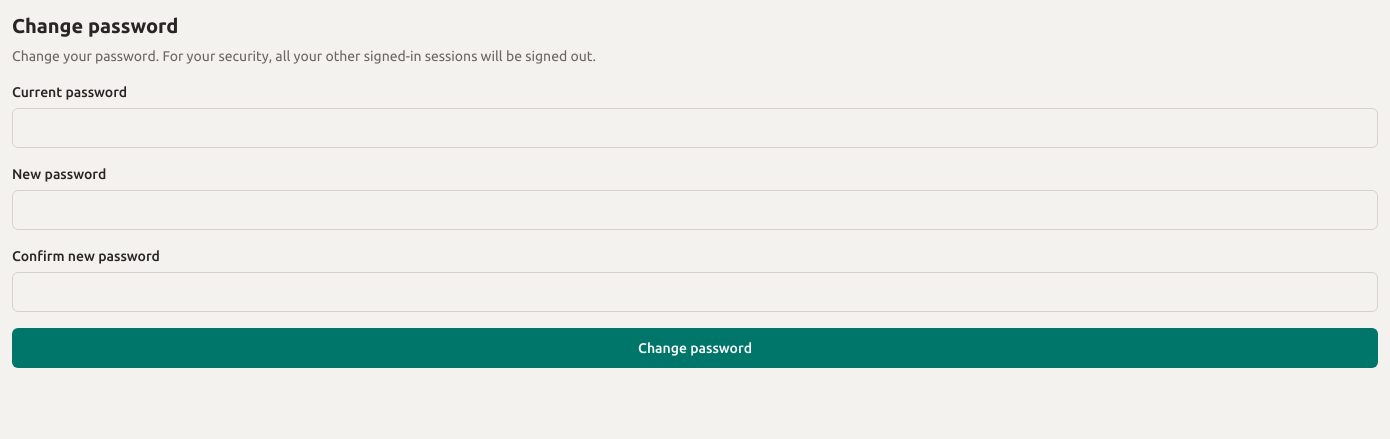
it: ChangePasswordForm — step-up 401 › first 401 → refresh() once → retry → second 401 → step-up message (no loop), fields cleared
Type "wrong-current12" into the password field labelled "Current password". click: [695, 128]
box: [12, 108, 1378, 148]
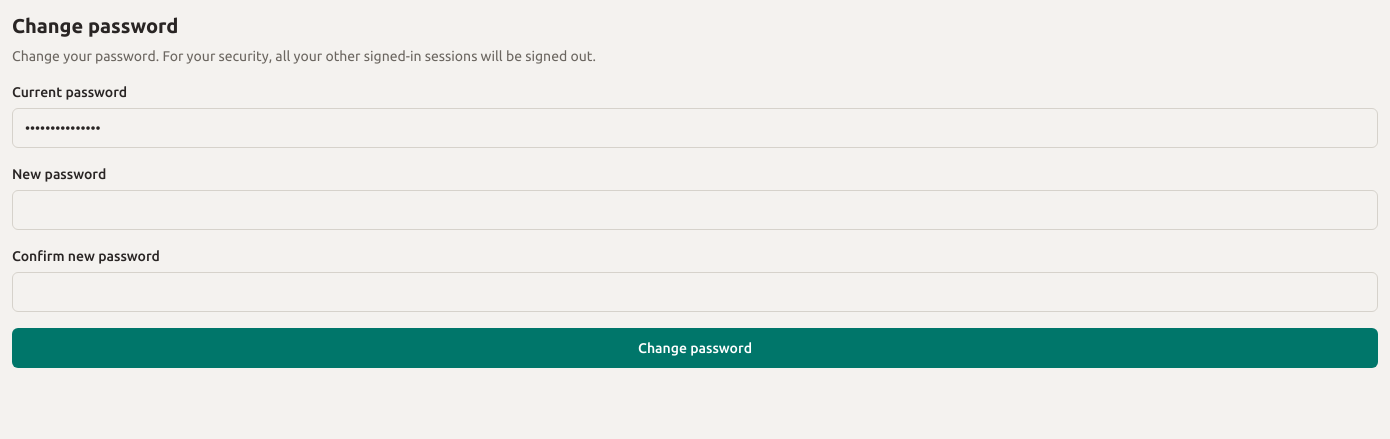
Type "new-password-12+" into the password field labelled "New password". click: [695, 210]
box: [12, 190, 1378, 230]
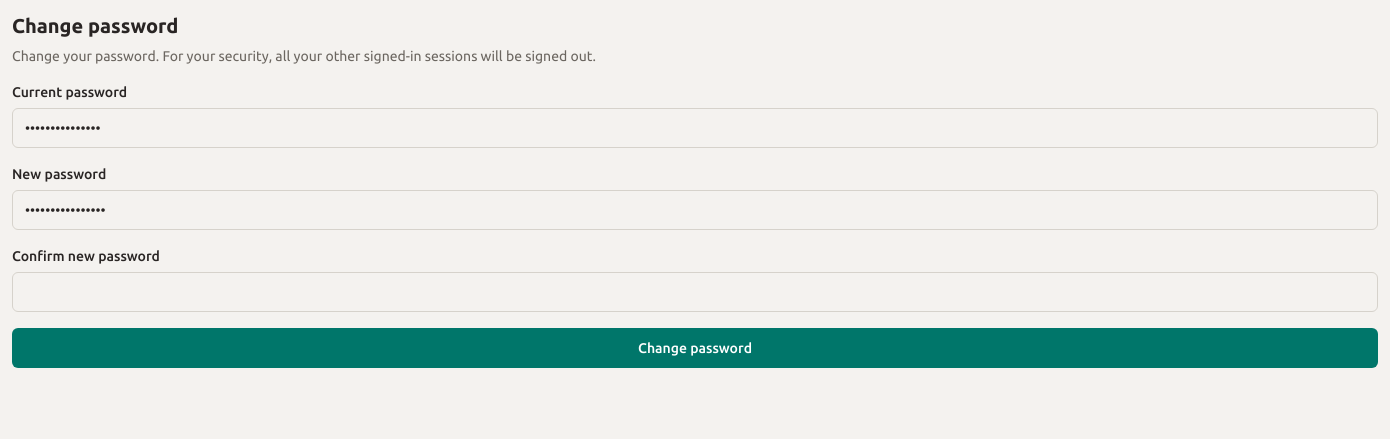
Type "new-password-12+" into the password field labelled "Confirm new password". click: [695, 292]
box: [12, 272, 1378, 312]
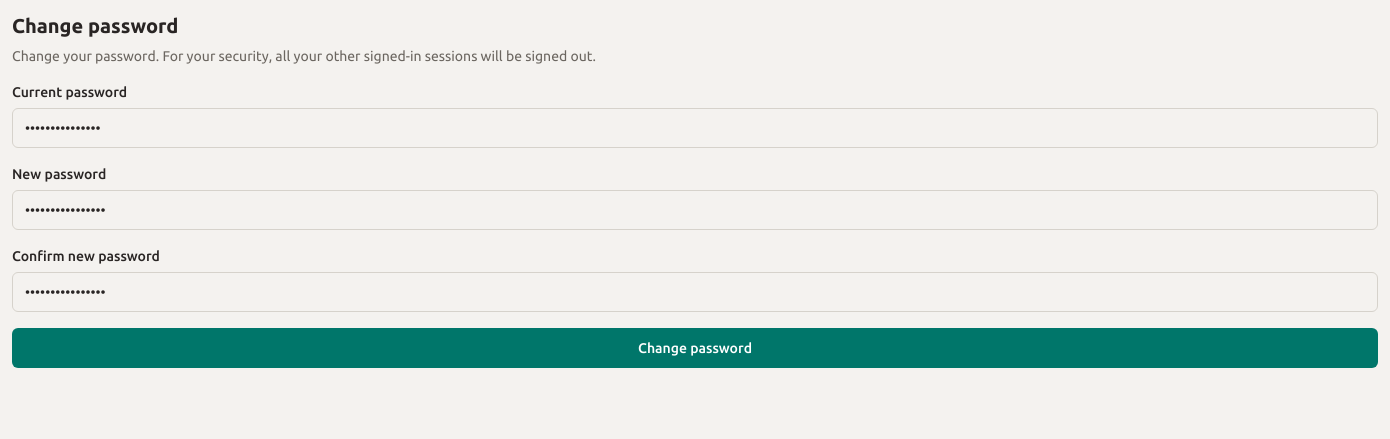
Submit the form
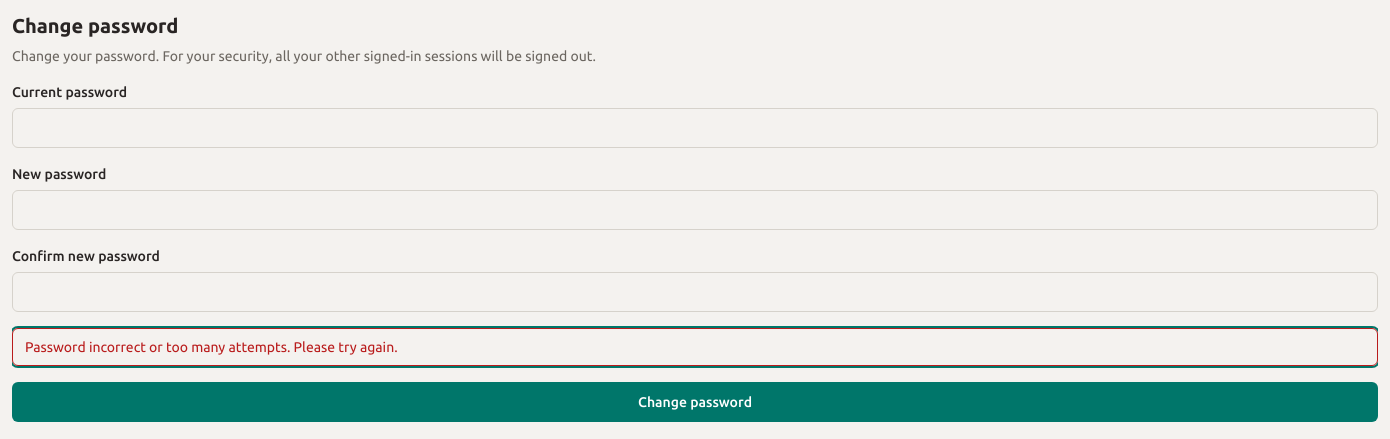
Now the text "Password incorrect or too many attempts. Please try again." is shown, box [12, 328, 1378, 366]
Now the password field labelled "Current password" is empty, box [12, 108, 1378, 148]
Now the password field labelled "New password" is empty, box [12, 190, 1378, 230]
